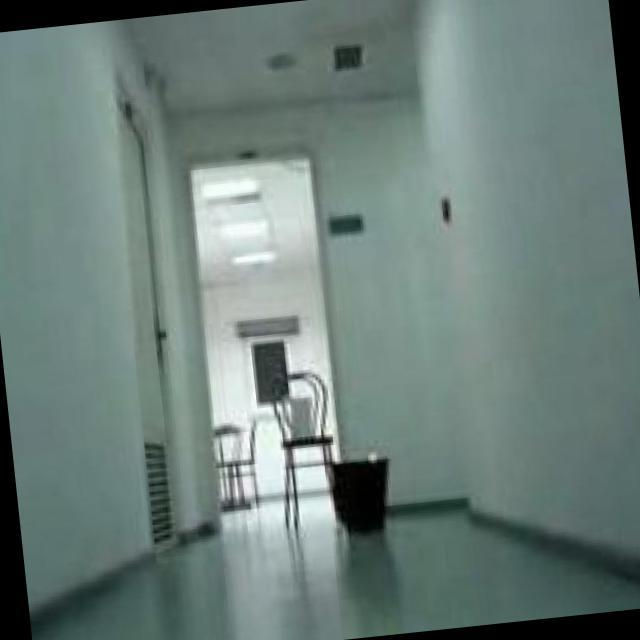Fire: (368, 445, 381, 468)
